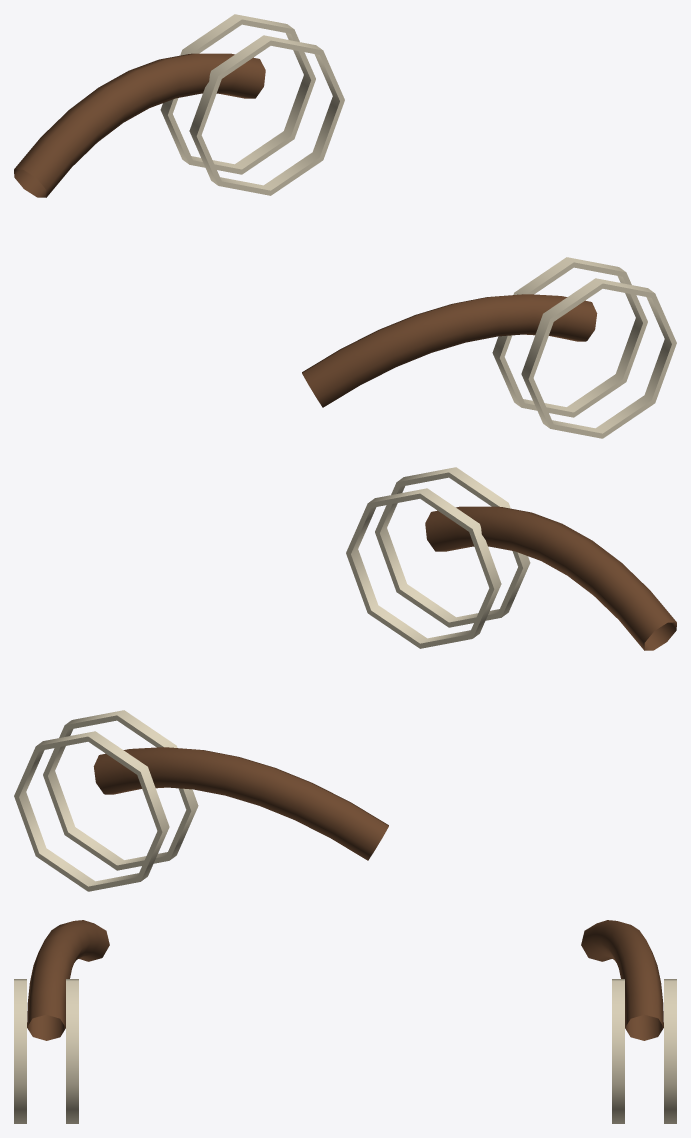
File: kpfe_pylon.obj
3 renders of one model, top to bottom at view 1: azimuth 30°, elevation 25°; view 2: azimuth 150°, elevation 25°; view 3: azimuth 270°, elevation 25°, orthographic. The views are drawn at different scales.
Visible parts, largest first — view 1: kpfe_pylon; view 2: kpfe_pylon; view 3: kpfe_pylon.
Part boxes in pixels (x1=…): kpfe_pylon: x1=14, y1=14, x2=676, y2=438; kpfe_pylon: x1=14, y1=467, x2=676, y2=891; kpfe_pylon: x1=14, y1=920, x2=676, y2=1123.
Bounding box in the file's own units: 1.33 × 0.594 × 2.55.
